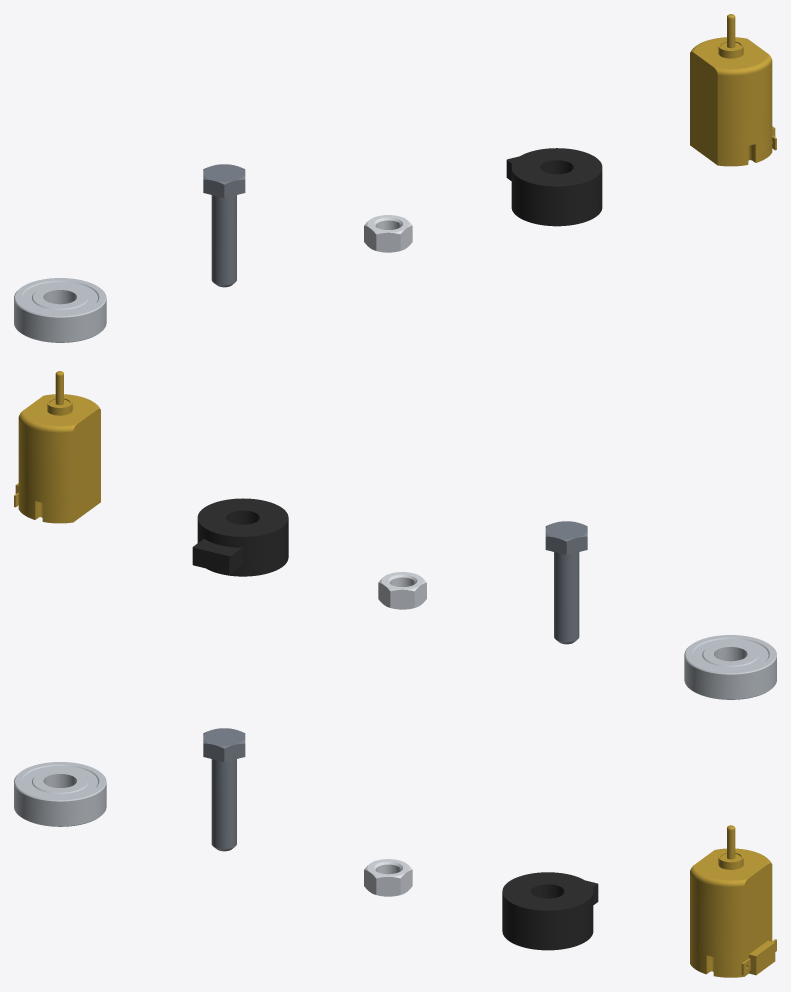
File: mcmaster-hardware.glb
3 renders of one model, top to bottom at view 1: azimuth 30°, elevation 25°; view 2: azimuth 150°, elevation 25°; view 3: azimuth 330°, elevation 25°, orthographic.
Parts seen in each view (by area): view 1: 6331K32, 6435K12, 5972K325, 91280A340, 91828A230; view 2: 6331K32, 6435K12, 5972K325, 91280A340, 91828A230; view 3: 6331K32, 6435K12, 5972K325, 91280A340, 91828A230.
Part boxes in pixels (x1,y1,x2,y2): 6331K32: [690, 14, 776, 166]; 6435K12: [506, 148, 602, 226]; 5972K325: [14, 278, 106, 342]; 91280A340: [203, 164, 245, 287]; 91828A230: [364, 215, 412, 252]; 6331K32: [14, 371, 100, 523]; 6435K12: [192, 498, 288, 576]; 5972K325: [684, 635, 776, 699]; 91280A340: [545, 521, 587, 644]; 91828A230: [378, 572, 426, 609]; 6331K32: [690, 825, 776, 977]; 6435K12: [502, 872, 598, 950]; 5972K325: [14, 762, 106, 826]; 91280A340: [203, 728, 245, 851]; 91828A230: [364, 859, 412, 896].
Size of the model in its own units: 2.04 by 0.38 by 0.2592.
